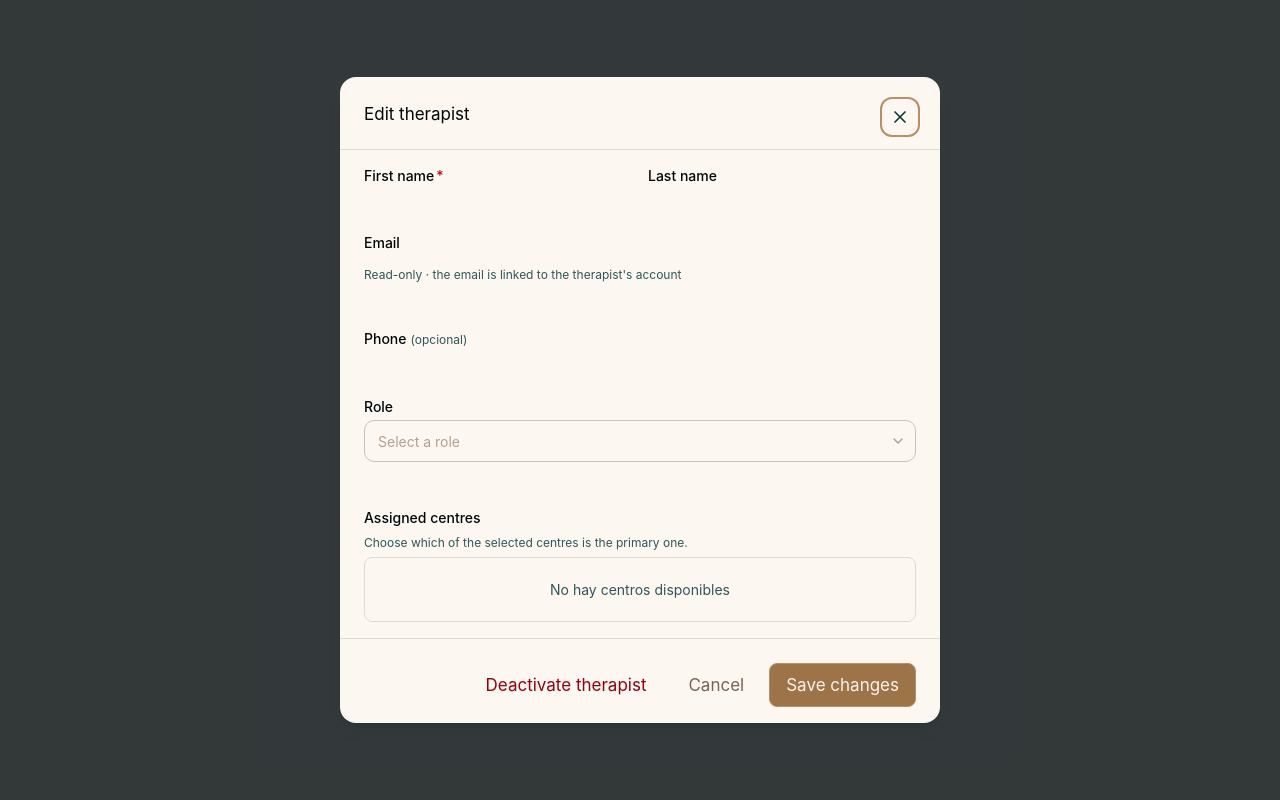
Scenario: TerapeutaModal — deactivate flow (confirm Dialog) › when guard returns 0, opens the confirmation Dialog (not the guard dialog)
This screenshot has width=1280, height=800.
Click the button "Deactivate therapist": [566, 685] box [468,663,663,707]
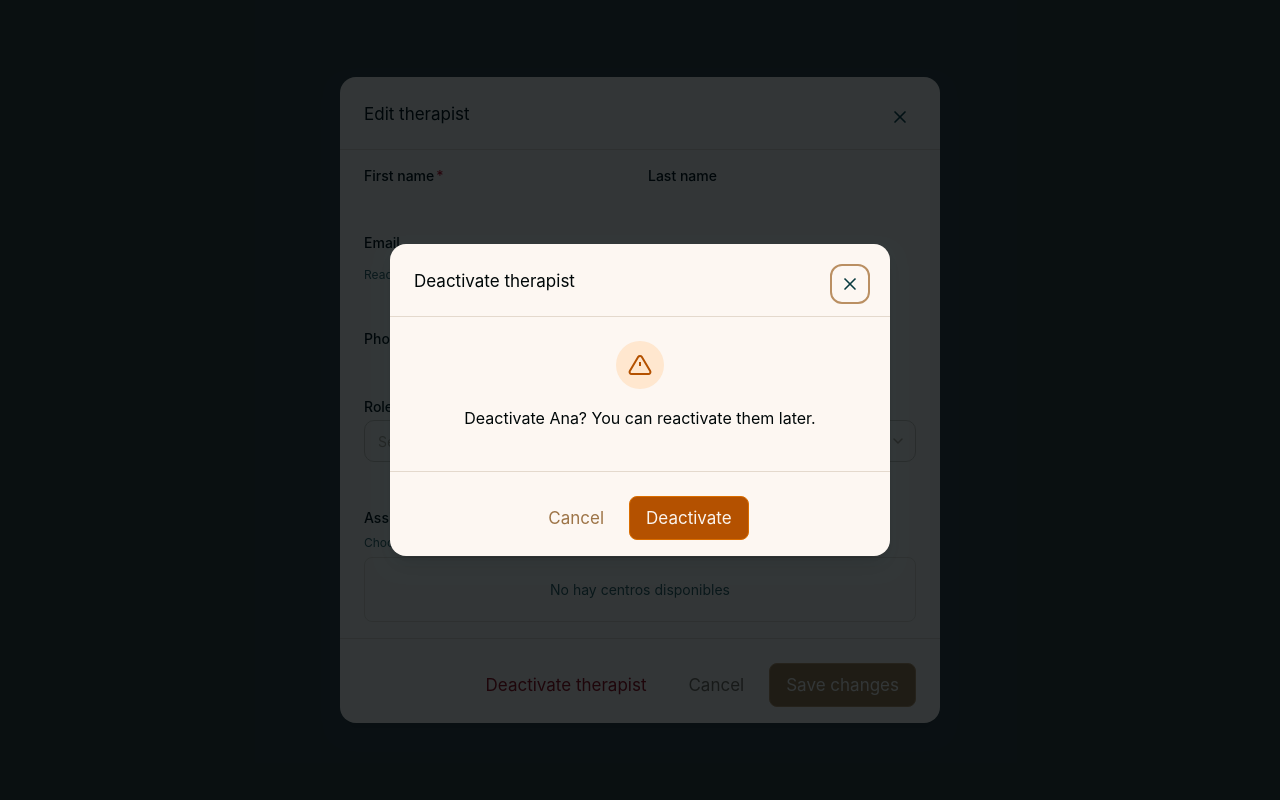
Now the text "Deactivate Ana? You can reactivate them later." is shown, box [464,408,816,428]
Now the button "Deactivate" is shown, box [629,496,749,540]
